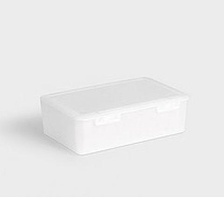plastic_box: (30, 69, 193, 160)
